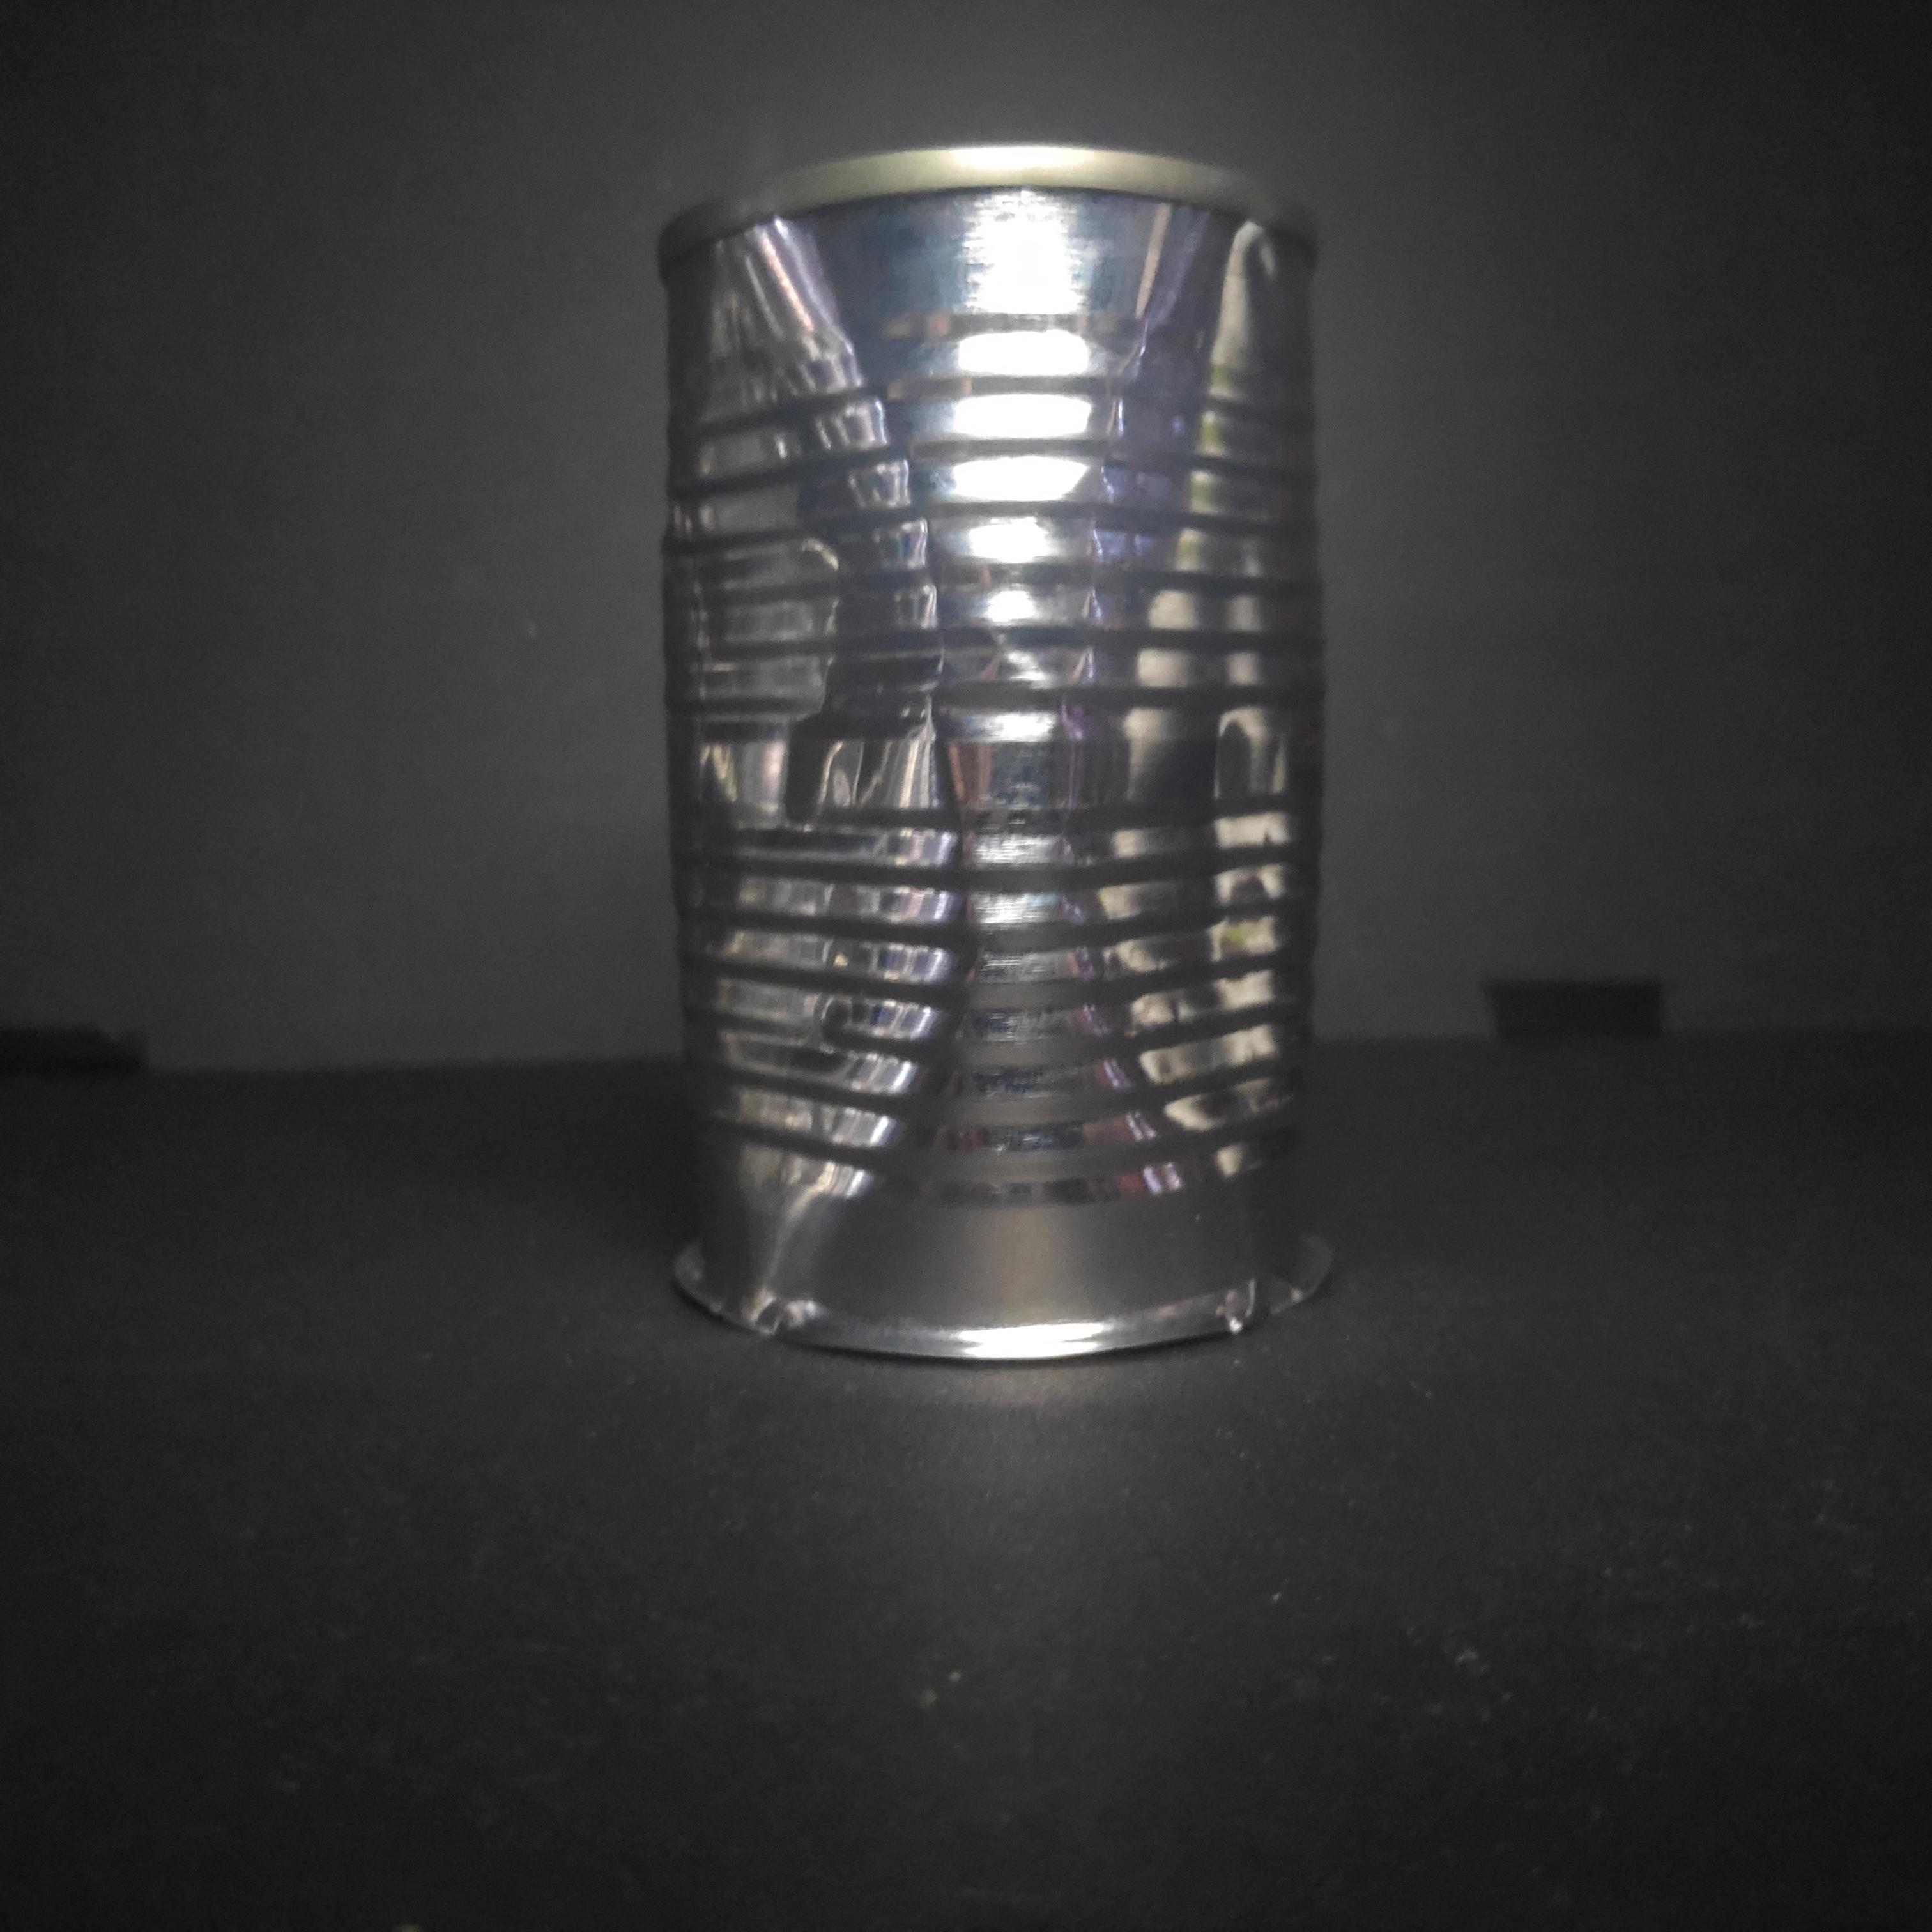Dented: (633, 131, 1341, 1389)
